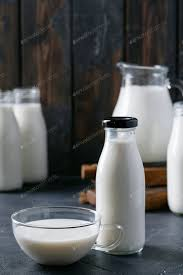milk: (116, 45, 183, 208), (98, 106, 152, 248), (8, 197, 105, 259)
